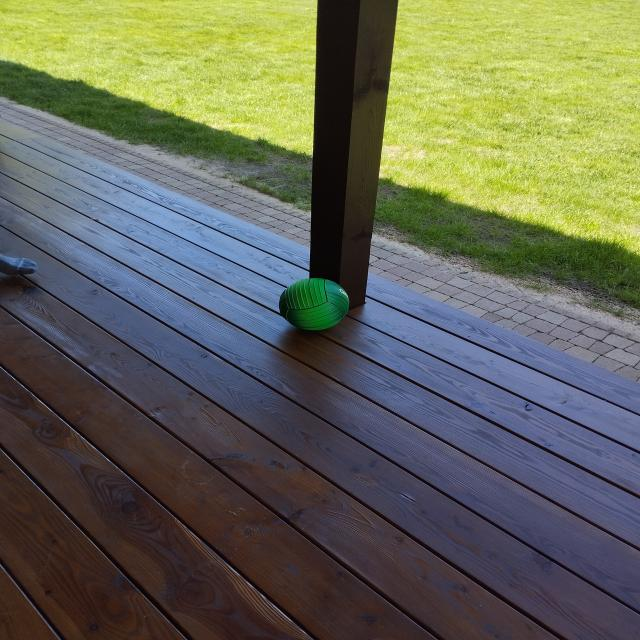zielona: (280, 278, 349, 332)
